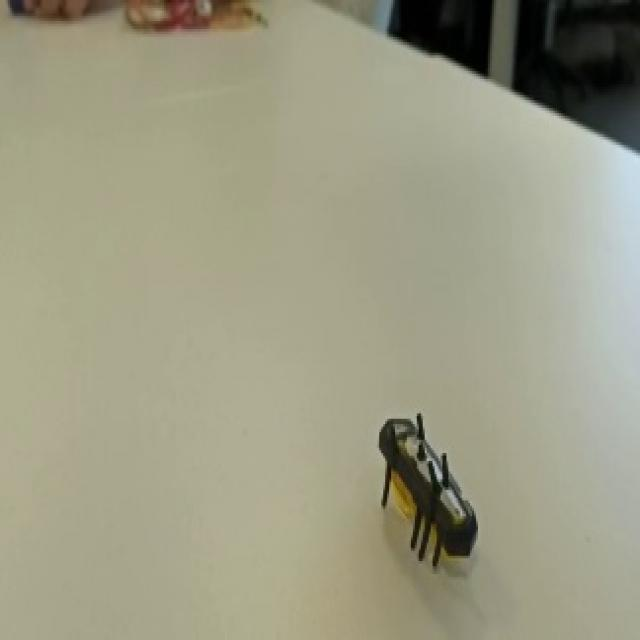6_NanoBug_GrisOscuro: (335, 372, 511, 606)
